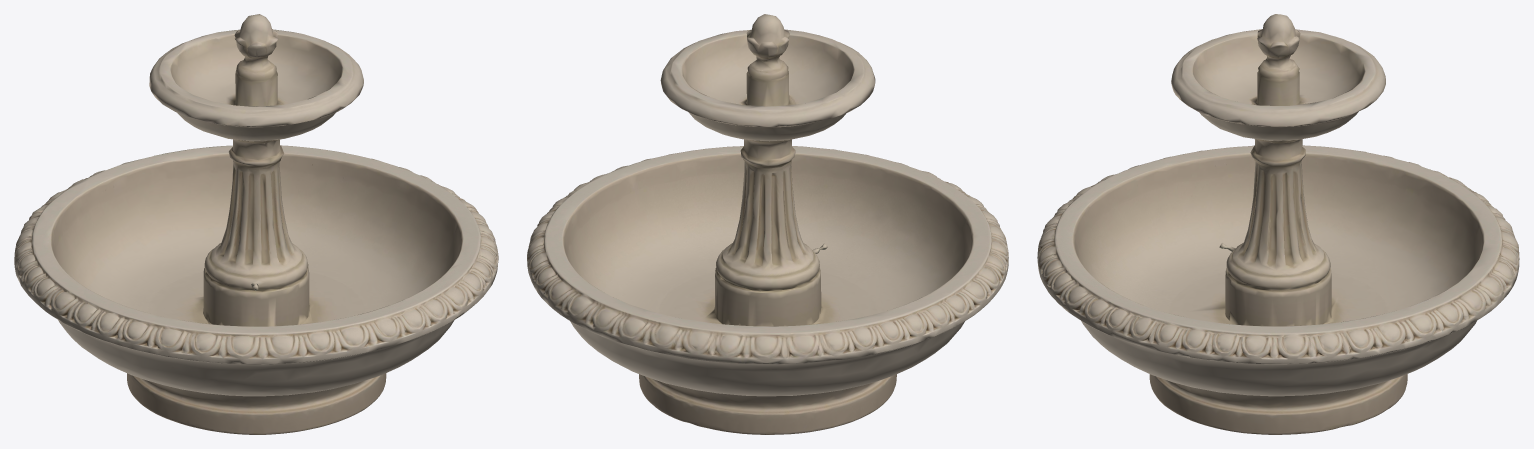
File: fountain2.glb
3 renders of one model, left to right at view 1: azimuth 30°, elevation 25°; view 2: azimuth 150°, elevation 25°; view 3: azimuth 270°, elevation 25°, orthographic.
Parts seen in each view (by area): view 1: tripo_node_4a093aab-4cfc-48d0-a09f-6d317e8df61d; view 2: tripo_node_4a093aab-4cfc-48d0-a09f-6d317e8df61d; view 3: tripo_node_4a093aab-4cfc-48d0-a09f-6d317e8df61d.
Part boxes in pixels (bbox=[...]): tripo_node_4a093aab-4cfc-48d0-a09f-6d317e8df61d: bbox=[14, 14, 498, 434]; tripo_node_4a093aab-4cfc-48d0-a09f-6d317e8df61d: bbox=[527, 14, 1008, 434]; tripo_node_4a093aab-4cfc-48d0-a09f-6d317e8df61d: bbox=[1037, 14, 1519, 434].
Size of the model in its own units: 0.9758 by 0.8157 by 0.9742.
Materials: 1 (1 with a texture image).
